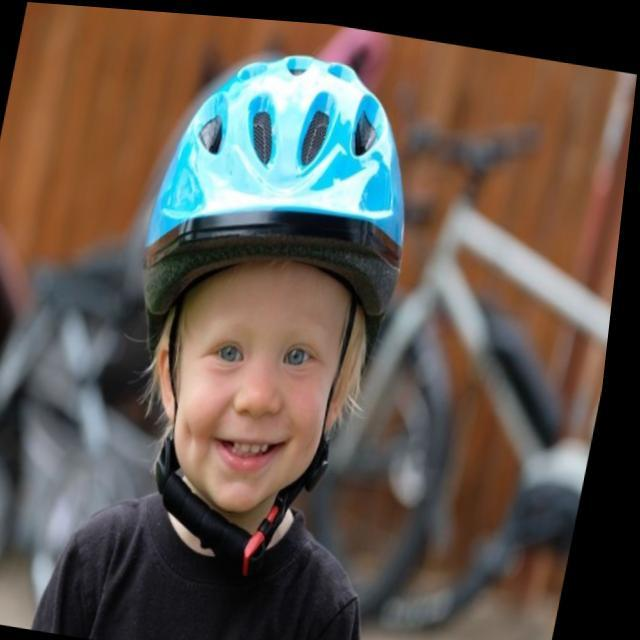Helmet: (132, 45, 406, 509)
